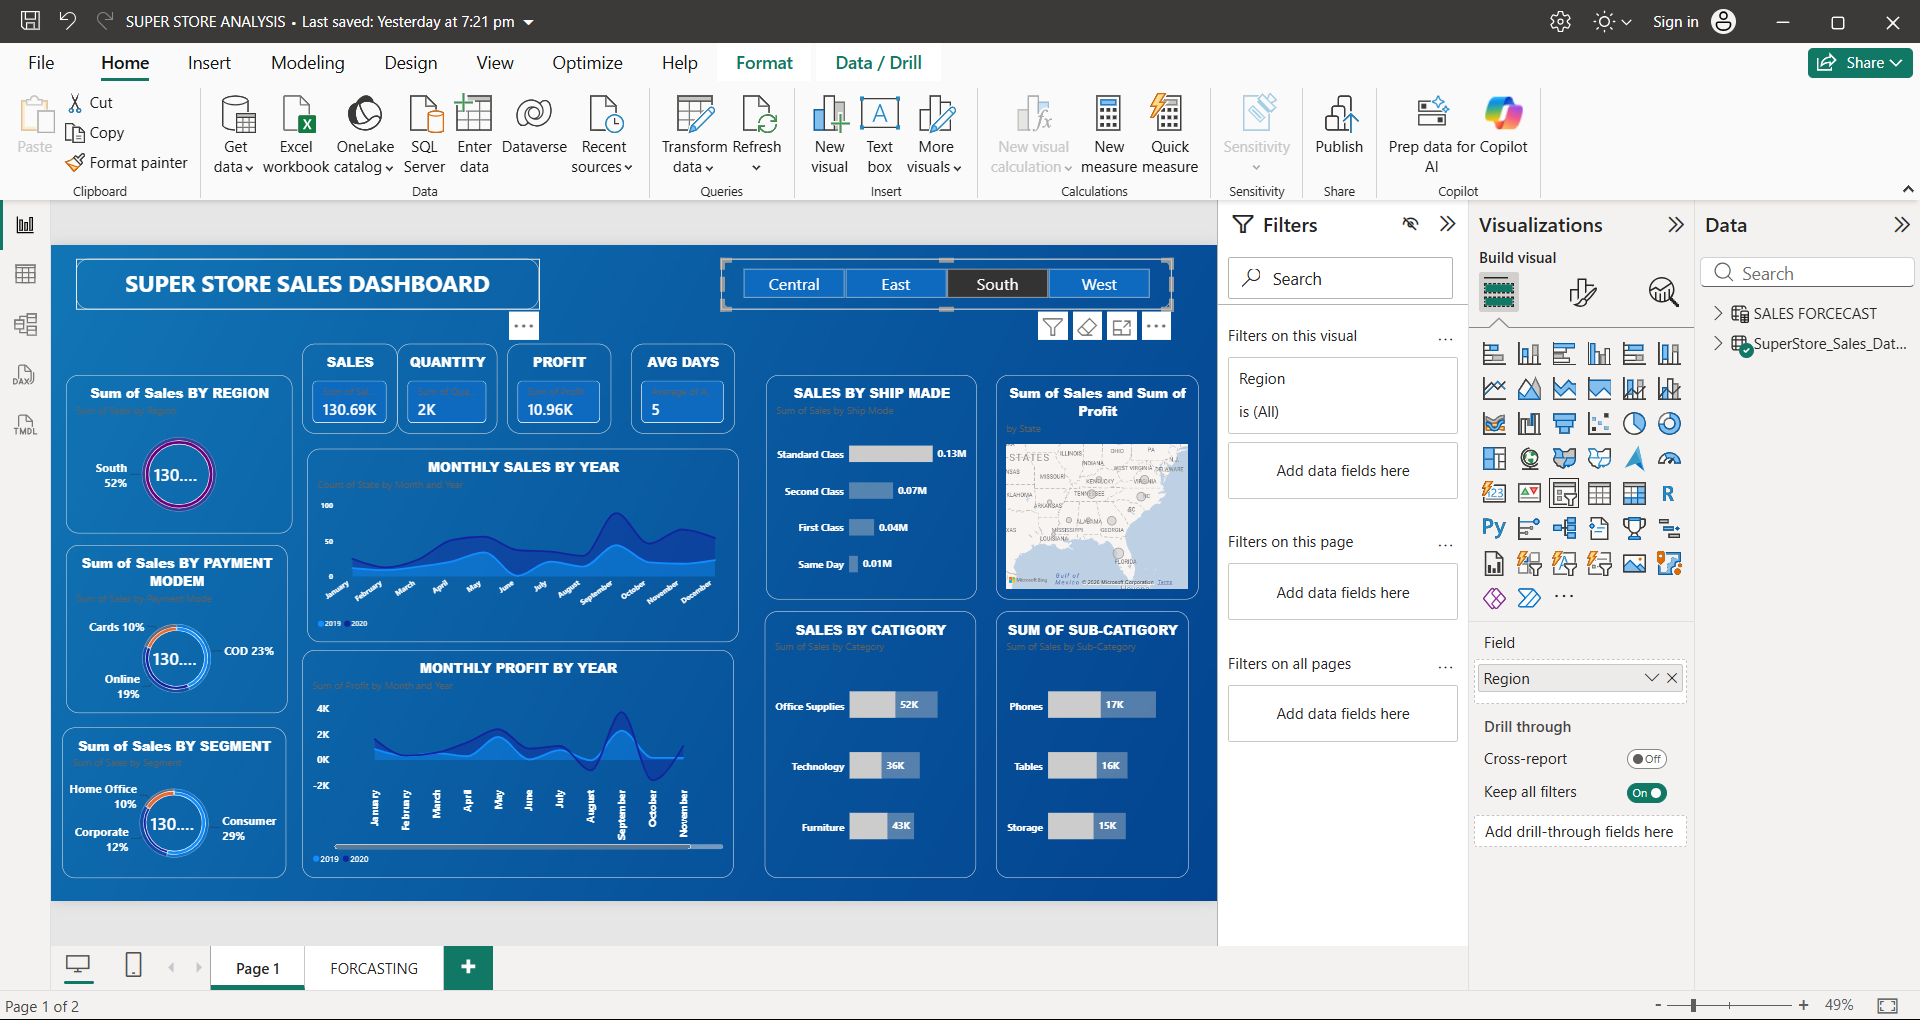

Layout of this report page (visuals, bound fields, positions):
{"tool":"powerbi","page":{"name":"Page 1","canvas":[1920,1080],"ordinal":0},"visuals":[{"type":"clusteredBarChart","title":"SALES BY CATIGORY","fields":{"Category":["SuperStore_Sales_Dataset.Category"],"Y":["Sum(SuperStore_Sales_Dataset.Sales)"]},"box":[1175,602.8,347.8,439.1],"z":0},{"type":"clusteredBarChart","title":"SUM OF SUB-CATIGORY","fields":{"Category":["SuperStore_Sales_Dataset.Sub-Category"],"Y":["Sum(SuperStore_Sales_Dataset.Sales)"]},"box":[1555.6,602.8,317.4,439.1],"z":1000},{"type":"clusteredBarChart","title":"SALES BY SHIP MADE","fields":{"Category":["SuperStore_Sales_Dataset.Ship Mode"],"Y":["Sum(SuperStore_Sales_Dataset.Sales)"]},"box":[1177.8,213.9,347.2,369.4],"z":2000},{"type":"stackedAreaChart","title":"MONTHLY PROFIT BY YEAR","fields":{"Category":["SuperStore_Sales_Dataset.Order Date.Variation.Date Hierarchy.Month","SuperStore_Sales_Dataset.Order Date.Variation.Date Hierarchy.Day"],"Series":["SuperStore_Sales_Dataset.Order Date.Variation.Date Hierarchy.Year"],"Y":["Sum(SuperStore_Sales_Dataset.Profit)"]},"box":[414.6,666.7,710.4,375],"z":3000},{"type":"map","fields":{"Category":["SuperStore_Sales_Dataset.State"],"Size":["Sum(SuperStore_Sales_Dataset.Sales)"]},"box":[1555.6,213.9,333.3,369.4],"z":4000},{"type":"donutChart","title":"Sum of Sales BY REGION","fields":{"Category":["SuperStore_Sales_Dataset.Region"],"Y":["Sum(SuperStore_Sales_Dataset.Sales)"]},"box":[25,214.6,372.9,260.4],"z":5000},{"type":"stackedAreaChart","title":"MONTHLY SALES BY YEAR","fields":{"Category":["SuperStore_Sales_Dataset.Order Date.Variation.Date Hierarchy.Month","SuperStore_Sales_Dataset.Order Date.Variation.Date Hierarchy.Day"],"Series":["SuperStore_Sales_Dataset.Order Date.Variation.Date Hierarchy.Year"],"Y":["CountNonNull(SuperStore_Sales_Dataset.State)"]},"box":[422.9,335.4,710.4,318.8],"z":6000},{"type":"donutChart","title":"Sum of Sales BY SEGMENT","fields":{"Category":["SuperStore_Sales_Dataset.Segment"],"Y":["Sum(SuperStore_Sales_Dataset.Sales)"]},"box":[18.8,793.8,368.8,247.9],"z":7000},{"type":"donutChart","title":"Sum of Sales BY PAYMENT MODEM","fields":{"Category":["SuperStore_Sales_Dataset.Payment Mode"],"Y":["Sum(SuperStore_Sales_Dataset.Sales)"]},"box":[25,493.8,364.6,277.1],"z":8000},{"type":"slicer","fields":{"Values":["SuperStore_Sales_Dataset.Region"]},"box":[1104.2,22.9,741.7,83.3],"z":9000},{"type":"textbox","box":[41.7,22.9,762.5,83.3],"z":10000},{"type":"cardVisual","title":"SALES","fields":{"Data":["Sum(SuperStore_Sales_Dataset.Sales)"]},"box":[413.7,162.6,156.4,148.2],"z":11000},{"type":"cardVisual","title":"QUANTITY","fields":{"Data":["Sum(SuperStore_Sales_Dataset.Quantity)"]},"box":[570.8,162.5,164.6,147.9],"z":12000},{"type":"cardVisual","title":"PROFIT","fields":{"Data":["Sum(SuperStore_Sales_Dataset.Profit)"]},"box":[752.1,162.5,170.8,147.9],"z":13000},{"type":"cardVisual","title":"AVG DAYS","fields":{"Data":["Avg(SuperStore_Sales_Dataset.AVGDELHIVERY)"]},"box":[954.2,162.5,170.8,147.9],"z":14000}]}

Visuals, with their boxes on the page's 1920x1080 design canvas (x1, y1, x2, y2). These are canvas units, not pixel positions in the 1920x1020 screenshot, which may show the page scaled, cropped or inside an application window:
"SALES BY CATIGORY" clusteredBarChart: x1=1175 y1=603 x2=1523 y2=1042
"SUM OF SUB-CATIGORY" clusteredBarChart: x1=1556 y1=603 x2=1873 y2=1042
"SALES BY SHIP MADE" clusteredBarChart: x1=1178 y1=214 x2=1525 y2=583
"MONTHLY PROFIT BY YEAR" stackedAreaChart: x1=415 y1=667 x2=1125 y2=1042
map - SuperStore_Sales_Dataset.State x Sum(SuperStore_Sales_Dataset.Sales): x1=1556 y1=214 x2=1889 y2=583
"Sum of Sales BY REGION" donutChart: x1=25 y1=215 x2=398 y2=475
"MONTHLY SALES BY YEAR" stackedAreaChart: x1=423 y1=335 x2=1133 y2=654
"Sum of Sales BY SEGMENT" donutChart: x1=19 y1=794 x2=388 y2=1042
"Sum of Sales BY PAYMENT MODEM" donutChart: x1=25 y1=494 x2=390 y2=771
slicer - SuperStore_Sales_Dataset.Region: x1=1104 y1=23 x2=1846 y2=106
textbox: x1=42 y1=23 x2=804 y2=106
"SALES" cardVisual: x1=414 y1=163 x2=570 y2=311
"QUANTITY" cardVisual: x1=571 y1=162 x2=735 y2=310
"PROFIT" cardVisual: x1=752 y1=162 x2=923 y2=310
"AVG DAYS" cardVisual: x1=954 y1=162 x2=1125 y2=310
